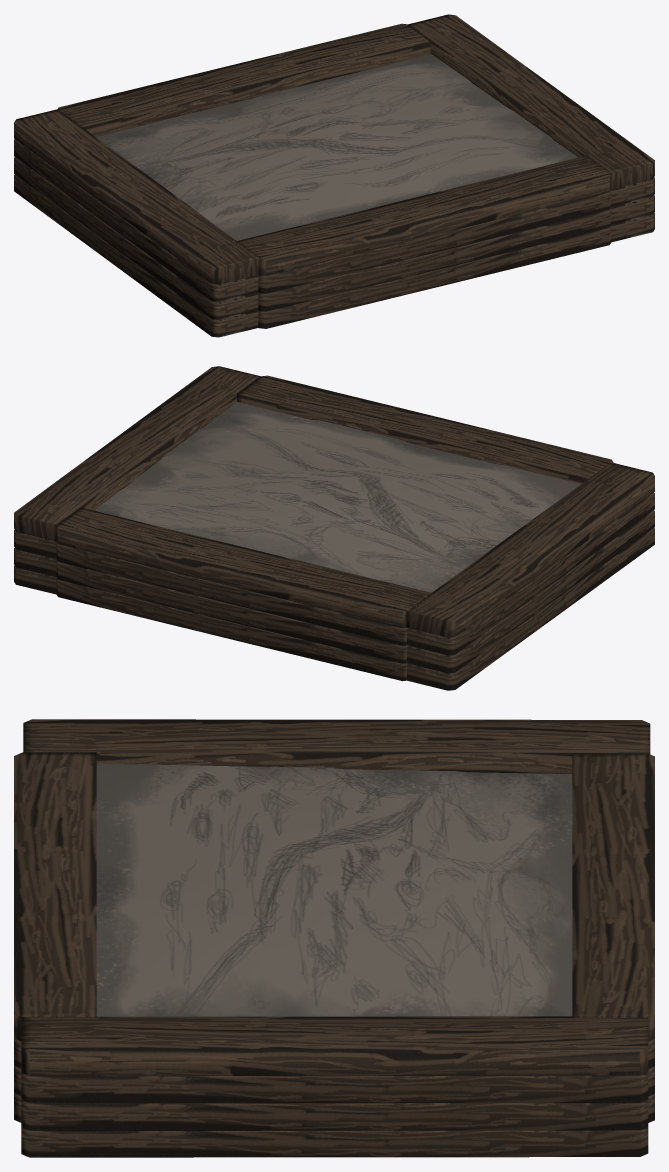
Rendered from GardenBed.fbx.
3 renders of one model, top to bottom at view 1: azimuth 30°, elevation 25°; view 2: azimuth 150°, elevation 25°; view 3: azimuth 270°, elevation 25°, orthographic. The views are drawn at different scales.
Parts seen in each view (by area): view 1: GardenBed; view 2: GardenBed; view 3: GardenBed.
Part boxes in pixels (x1,y1,x2,y2): GardenBed: [14, 14, 654, 337]; GardenBed: [14, 366, 654, 690]; GardenBed: [14, 719, 654, 1157].
Bounding box in the file's own units: 9.53 × 1.71 × 7.77.
1 material, 1 textured.
